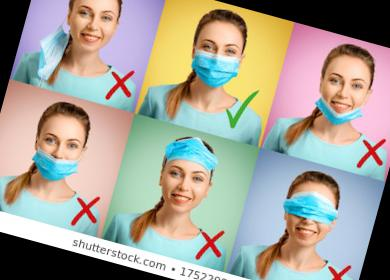mask_weared_incorrect: (151, 140, 221, 221), (278, 184, 344, 253), (316, 64, 373, 128), (29, 125, 86, 185)
with_mask: (190, 31, 243, 92)
